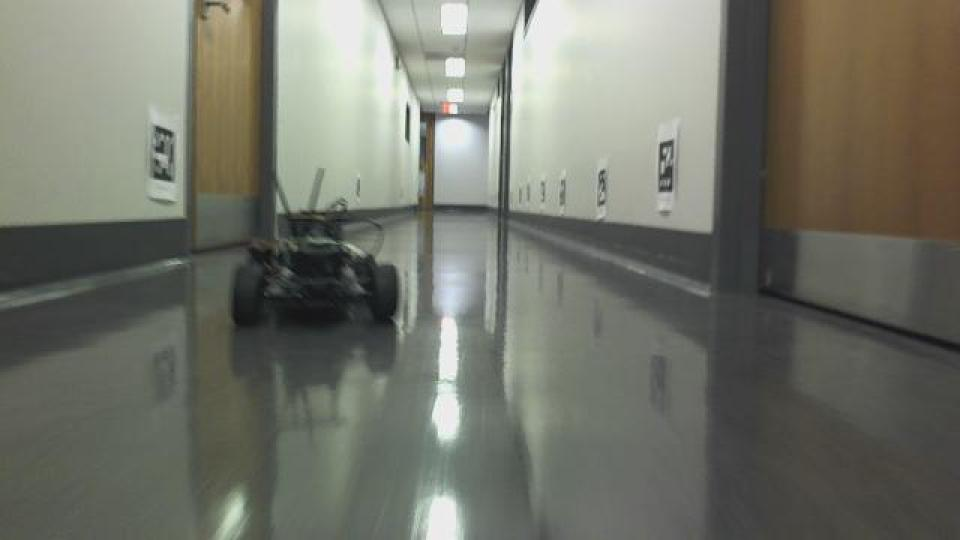car: (226, 165, 402, 331)
